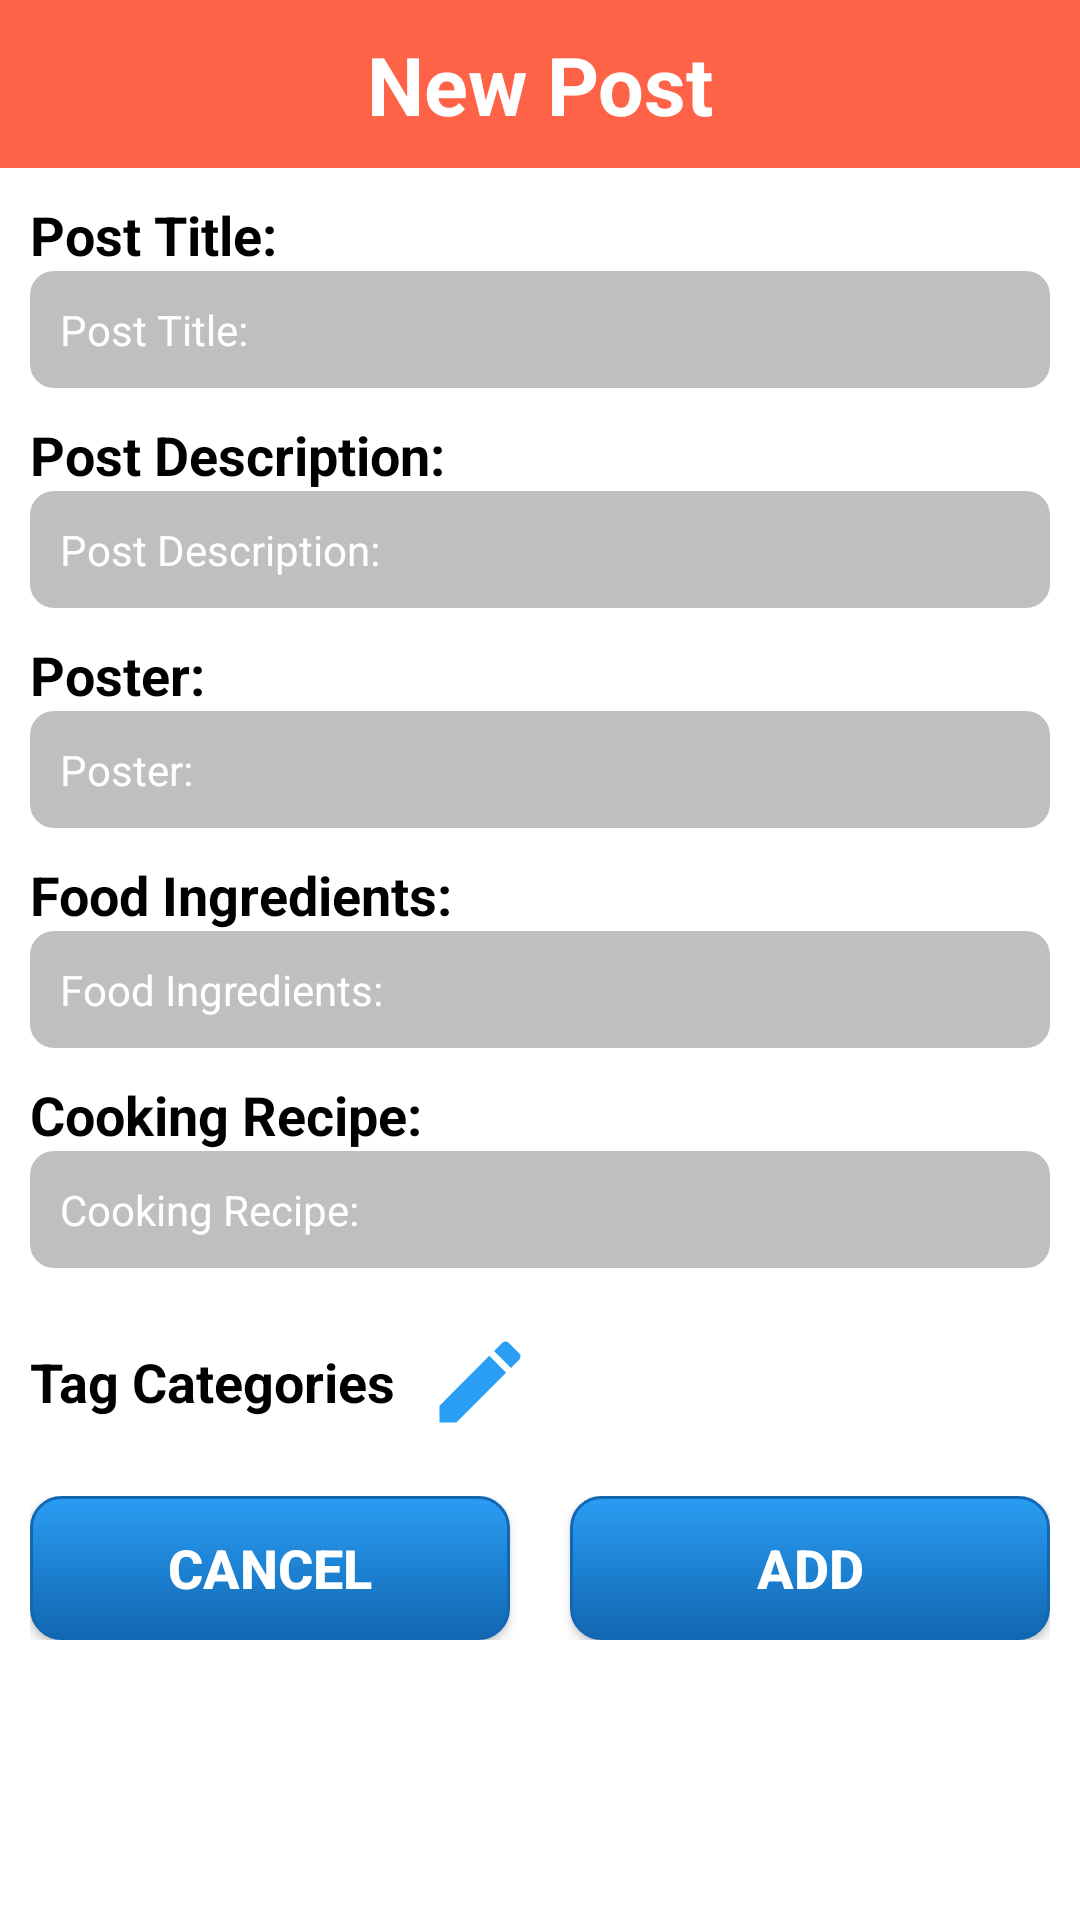

Icons on this 1080 × 1920 Android screen, each with its box as (x1, y1, x2, y2):
pen: (439, 1341, 521, 1423)
